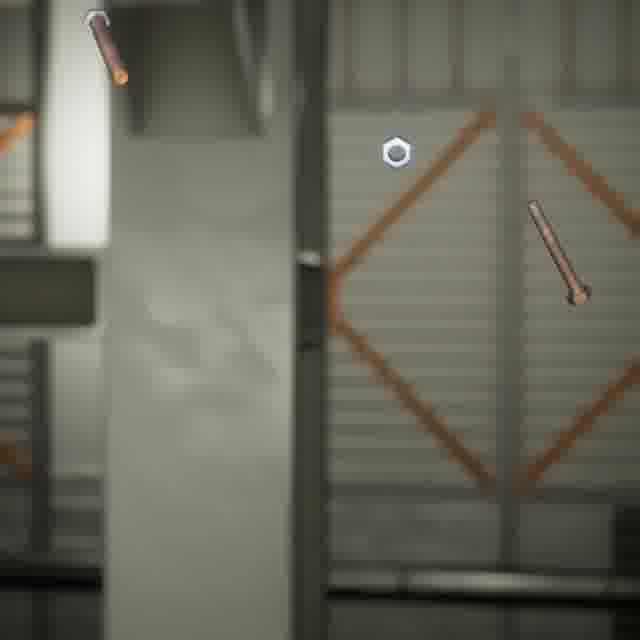bolt: (521, 195, 596, 309), (77, 3, 133, 89)
nut: (377, 130, 415, 174)
